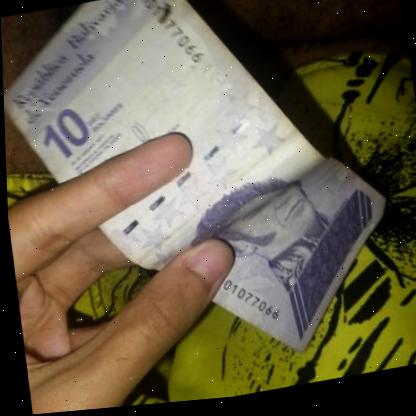ten-front-vef: (0, 0, 415, 411)
